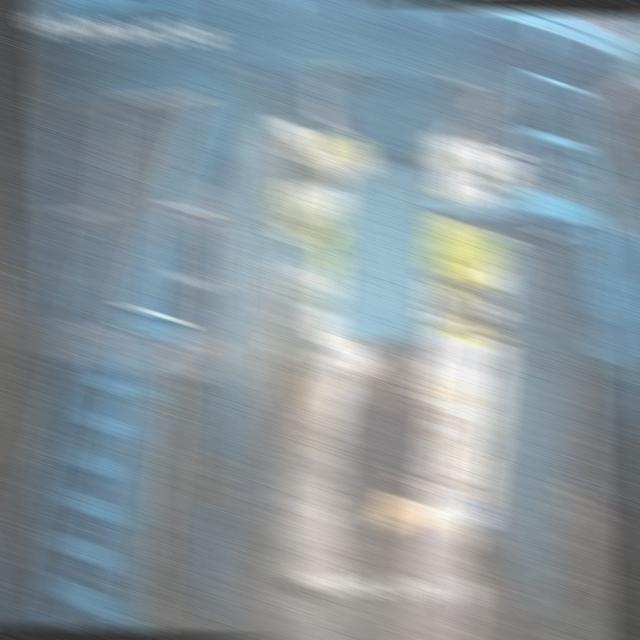cement_mixer_truck: (335, 272, 444, 480)
